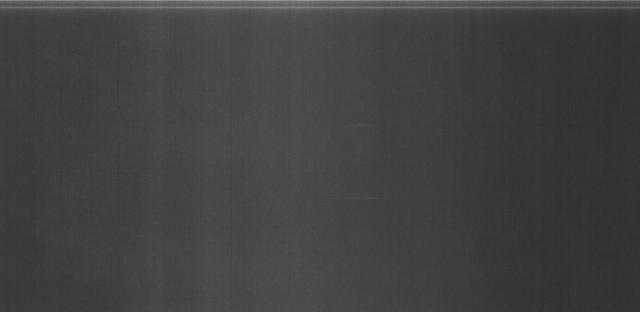welding_line: (2, 0, 640, 23)
